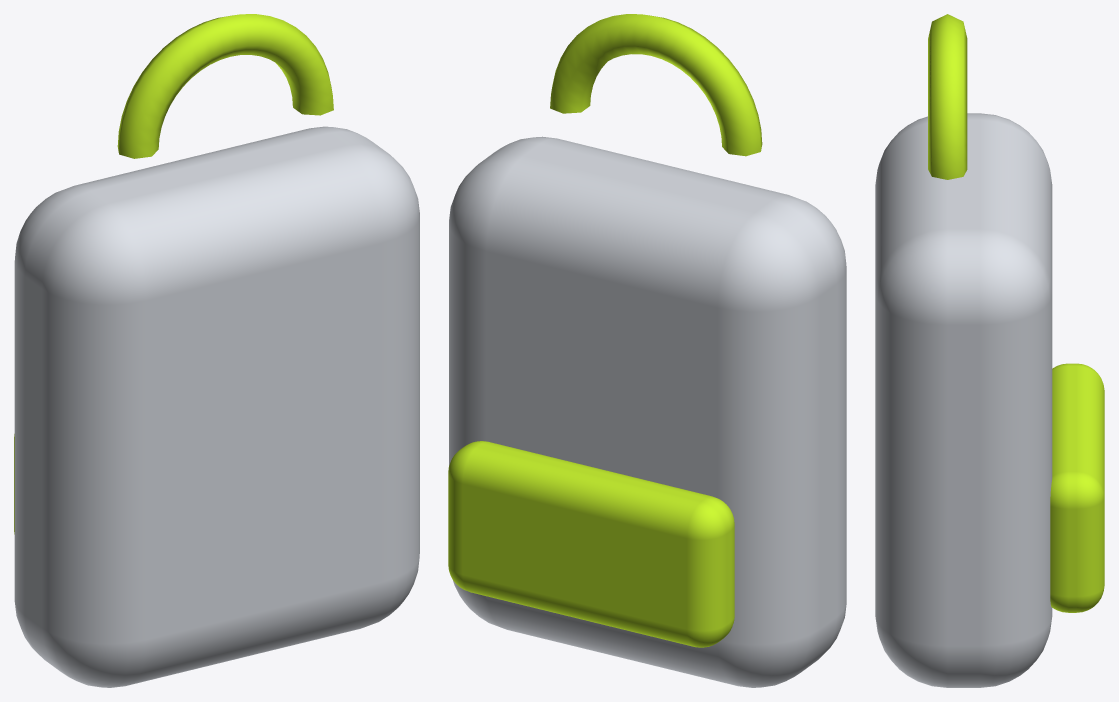
The model's file is training-pack.glb.
The picture shows the model from 3 angles, left to right: view 1: azimuth 30°, elevation 25°; view 2: azimuth 150°, elevation 25°; view 3: azimuth 270°, elevation 25°; orthographic projection. The views are drawn at different scales.
Visible parts, largest first — view 1: back.training-pack.body, back.training-pack.handle; view 2: back.training-pack.body, back.training-pack.pocket, back.training-pack.handle; view 3: back.training-pack.body, back.training-pack.pocket, back.training-pack.handle.
Boxes of the visible parts, x1,y1,x2,y2 form: back.training-pack.body: [14, 126, 419, 687]; back.training-pack.handle: [117, 14, 333, 158]; back.training-pack.body: [449, 136, 846, 687]; back.training-pack.pocket: [448, 441, 734, 647]; back.training-pack.handle: [550, 14, 762, 156]; back.training-pack.body: [875, 113, 1052, 687]; back.training-pack.pocket: [1050, 363, 1104, 612]; back.training-pack.handle: [928, 14, 967, 179].
Bounding box in the file's own units: 0.5 × 0.825 × 0.285.
